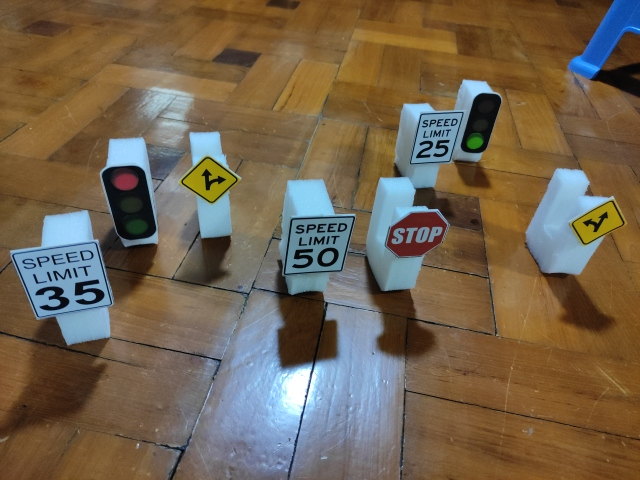Green Traffic Light: (460, 93, 501, 154)
Red Traffic Light: (100, 164, 157, 240)
Speed Limit 25: (411, 111, 463, 164)
Speed Limit 35: (9, 241, 113, 321)
Speed Limit 50: (282, 216, 353, 273)
Stop Sign: (384, 209, 449, 258)
Straight Or Left Sign: (571, 194, 626, 246)
Straight Or Right Sign: (181, 157, 238, 203)
